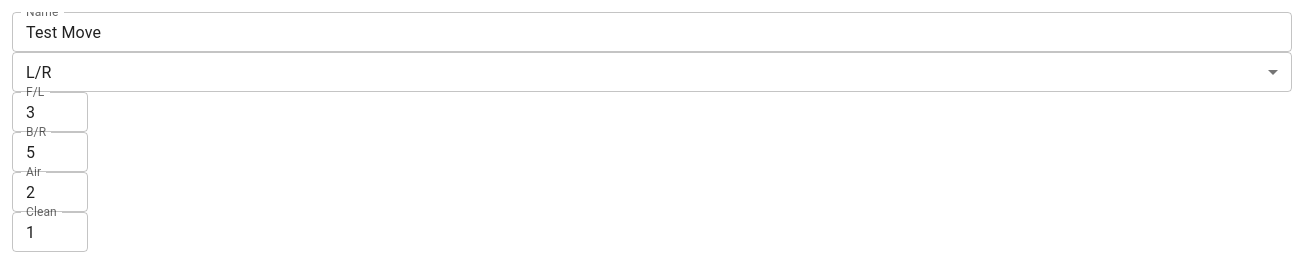
Test: EditMove › handles Single direction changes correctly
Note: Find and click the direction select
Step 1. Click the dropdown → (39, 72), box [26,62,52,82]
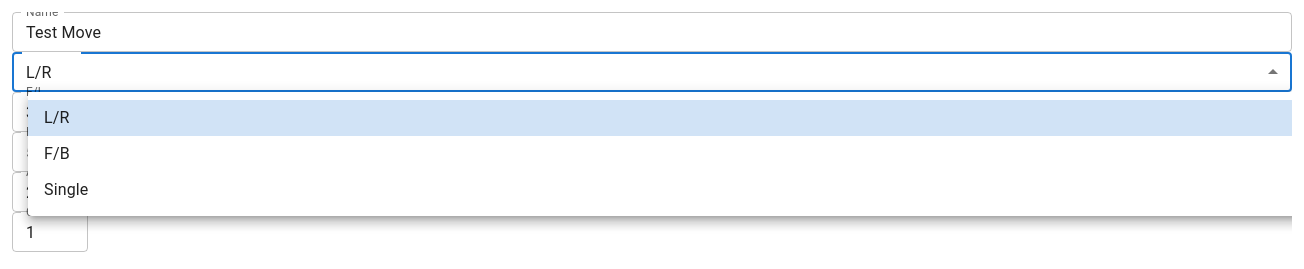
Note: Select "Single" option
Step 2. Click the option "Single" → (66, 190), box [44,180,88,199]
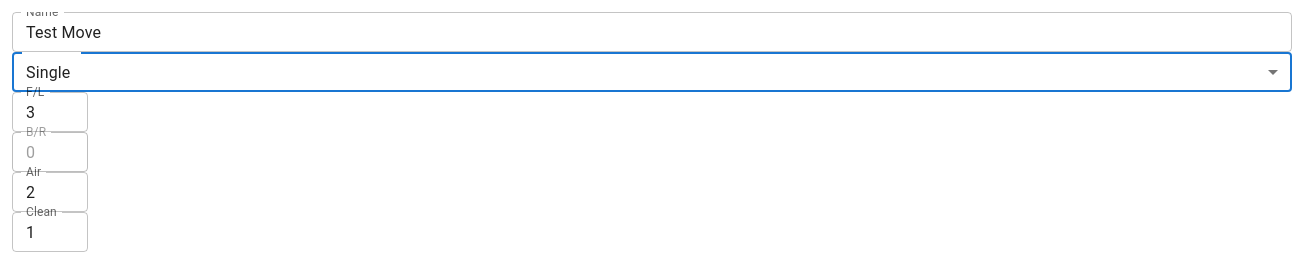
Expected: the field labelled "B/R" is disabled, [12,132,88,172]
Expected: the field labelled "B/R" holds "0", [12,132,88,172]
Note: Change back to L/R
Step 3. Click the dropdown → (48, 72), box [26,62,70,82]
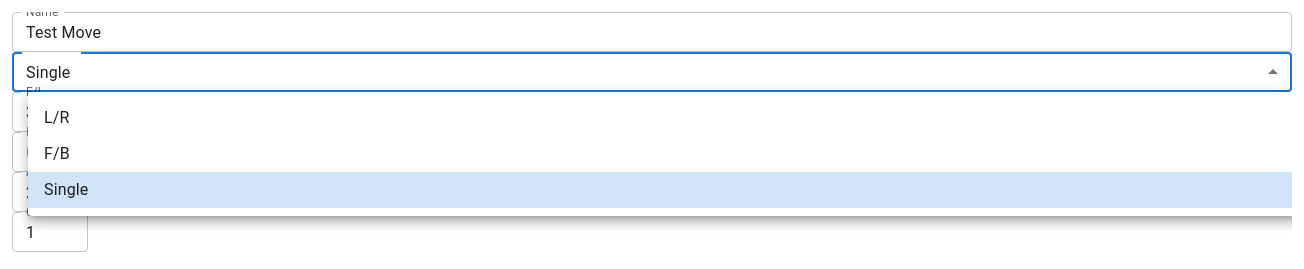
Step 4. Click the option "L/R" → (57, 118), box [44,108,70,127]
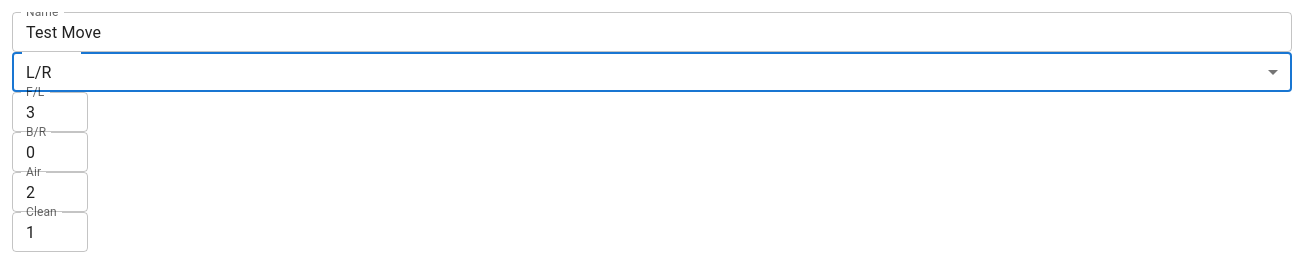
Expected: the field labelled "B/R" is enabled, [12,132,88,172]
